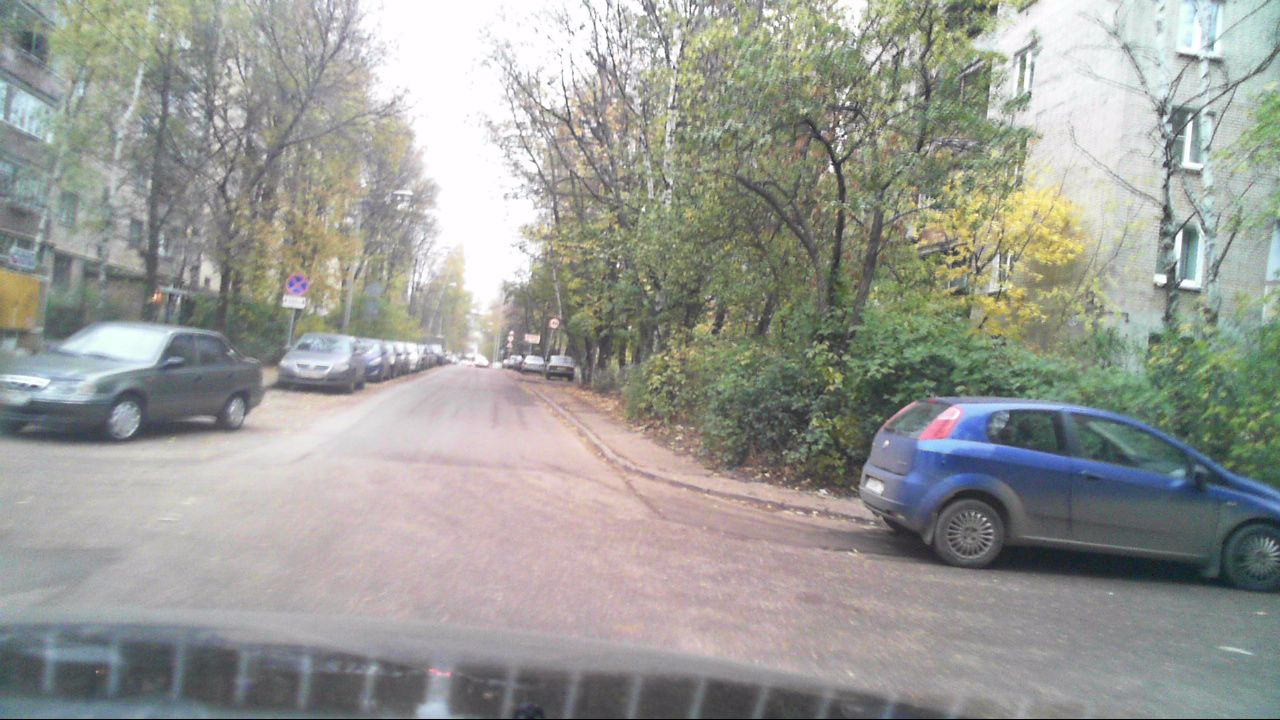No Parking: (285, 275, 306, 295)
